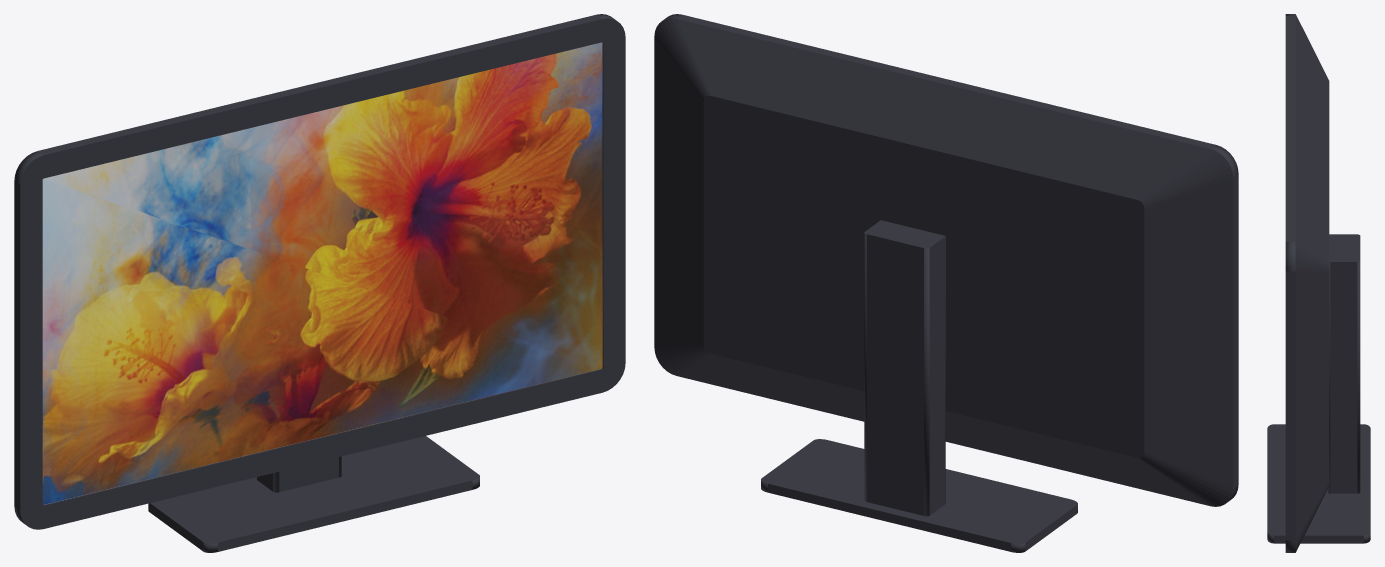
3 renders of one model, left to right at view 1: azimuth 30°, elevation 25°; view 2: azimuth 150°, elevation 25°; view 3: azimuth 270°, elevation 25°, orthographic. The views are drawn at different scales.
Visible parts, largest first — view 1: TV_40_2; view 2: TV_40_2; view 3: TV_40_2.
Boxes of the visible parts, x1,y1,x2,y2 form: TV_40_2: (14, 14, 625, 552); TV_40_2: (654, 14, 1238, 552); TV_40_2: (1267, 14, 1370, 552).
Size of the model in its own units: 0.9053 by 0.1616 by 0.6121.
3 materials, 3 textured.
